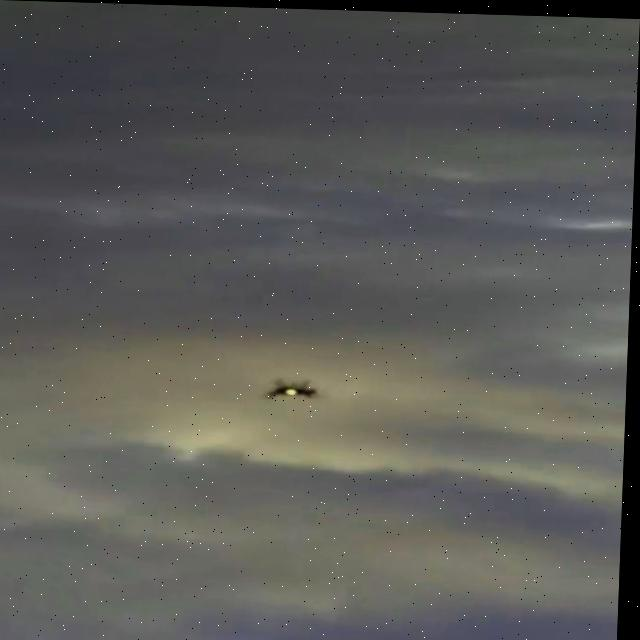drone: (263, 371, 330, 405)
